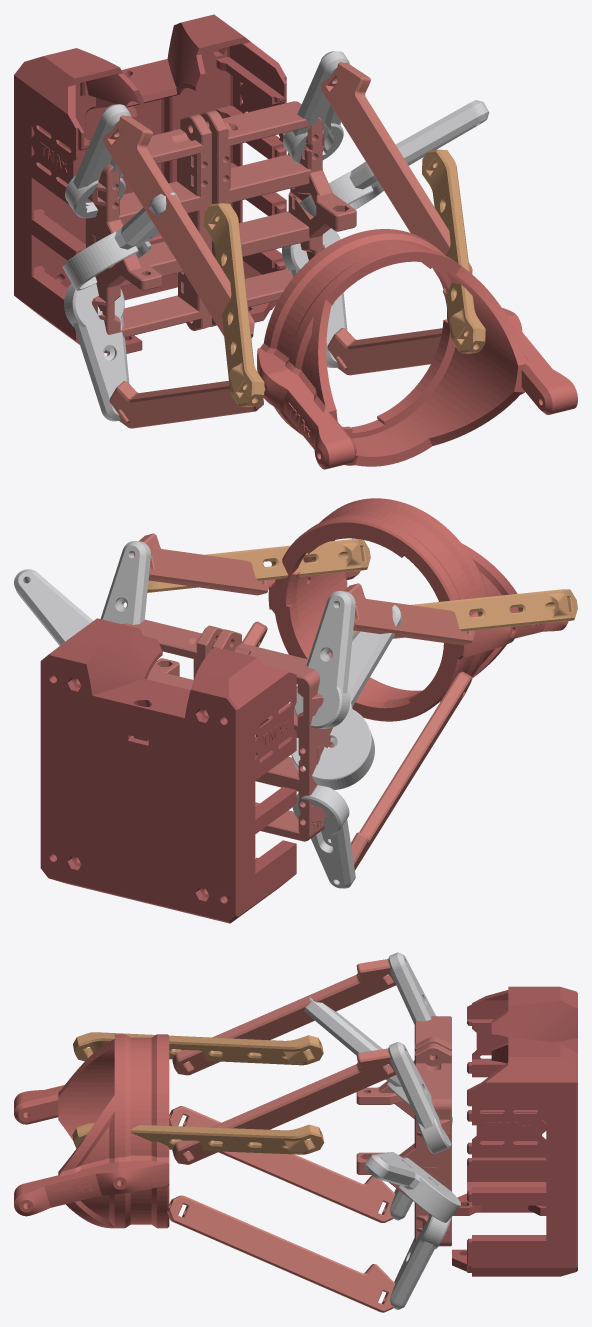
The model's file is sr6_real_assembly.glb.
The picture shows the model from 3 angles, top to bottom: view 1: azimuth 30°, elevation 25°; view 2: azimuth 150°, elevation 25°; view 3: azimuth 270°, elevation 25°; orthographic projection. The views are drawn at different scales.
Visible parts, largest first — view 1: base, receiver, R_frame, L_frame, link_L_mainA, link_R_mainA, link_L_pitch, link_R_pitch, arm_L_mainB, link_L_mainB, arm_R_pitch, link_R_mainB (+4 smaller); view 2: base, receiver, L_frame, arm_L_pitch, arm_L_mainA, link_L_pitch, link_R_mainA, link_L_mainA, link_L_mainB, link_R_pitch, arm_L_mainB, R_frame (+2 smaller); view 3: base, receiver, link_R_mainB, link_L_mainB, link_R_mainA, link_L_mainA, R_frame, link_R_pitch, link_L_pitch, arm_R_pitch, arm_R_mainA, arm_R_mainB (+4 smaller).
Boxes of the visible parts, x1,y1,x2,y2 form: base: (14, 14, 286, 353); receiver: (257, 229, 577, 469); R_frame: (199, 101, 356, 326); L_frame: (86, 114, 211, 337); link_L_mainA: (103, 115, 254, 338); link_R_mainA: (321, 62, 472, 277); link_L_pitch: (204, 203, 264, 407); link_R_pitch: (422, 149, 485, 353); arm_L_mainB: (64, 283, 129, 421); link_L_mainB: (109, 380, 263, 428); arm_R_pitch: (299, 100, 489, 216); link_R_mainB: (327, 328, 442, 375); base: (40, 618, 296, 923); receiver: (268, 498, 568, 721); L_frame: (212, 629, 334, 841); arm_L_pitch: (291, 605, 402, 789); arm_L_mainA: (294, 591, 355, 728); link_L_pitch: (352, 589, 577, 638); link_R_mainA: (134, 533, 270, 595); link_L_mainA: (338, 583, 474, 645); link_L_mainB: (351, 671, 472, 869); link_R_pitch: (147, 538, 370, 592); arm_L_mainB: (292, 785, 355, 888); R_frame: (122, 619, 223, 736); base: (452, 986, 577, 1276); receiver: (14, 1034, 169, 1228); link_R_mainB: (167, 1195, 394, 1312); link_L_mainB: (169, 1106, 394, 1222); link_R_mainA: (172, 1048, 395, 1164); link_L_mainA: (172, 959, 395, 1075); R_frame: (356, 1043, 451, 1246); link_R_pitch: (72, 1123, 324, 1154); link_L_pitch: (73, 1032, 323, 1065); arm_R_pitch: (365, 1152, 460, 1222); arm_R_mainA: (388, 1042, 451, 1153); arm_R_mainB: (389, 1214, 451, 1309).
Size of the model in its own units: 232 by 167 by 320.
